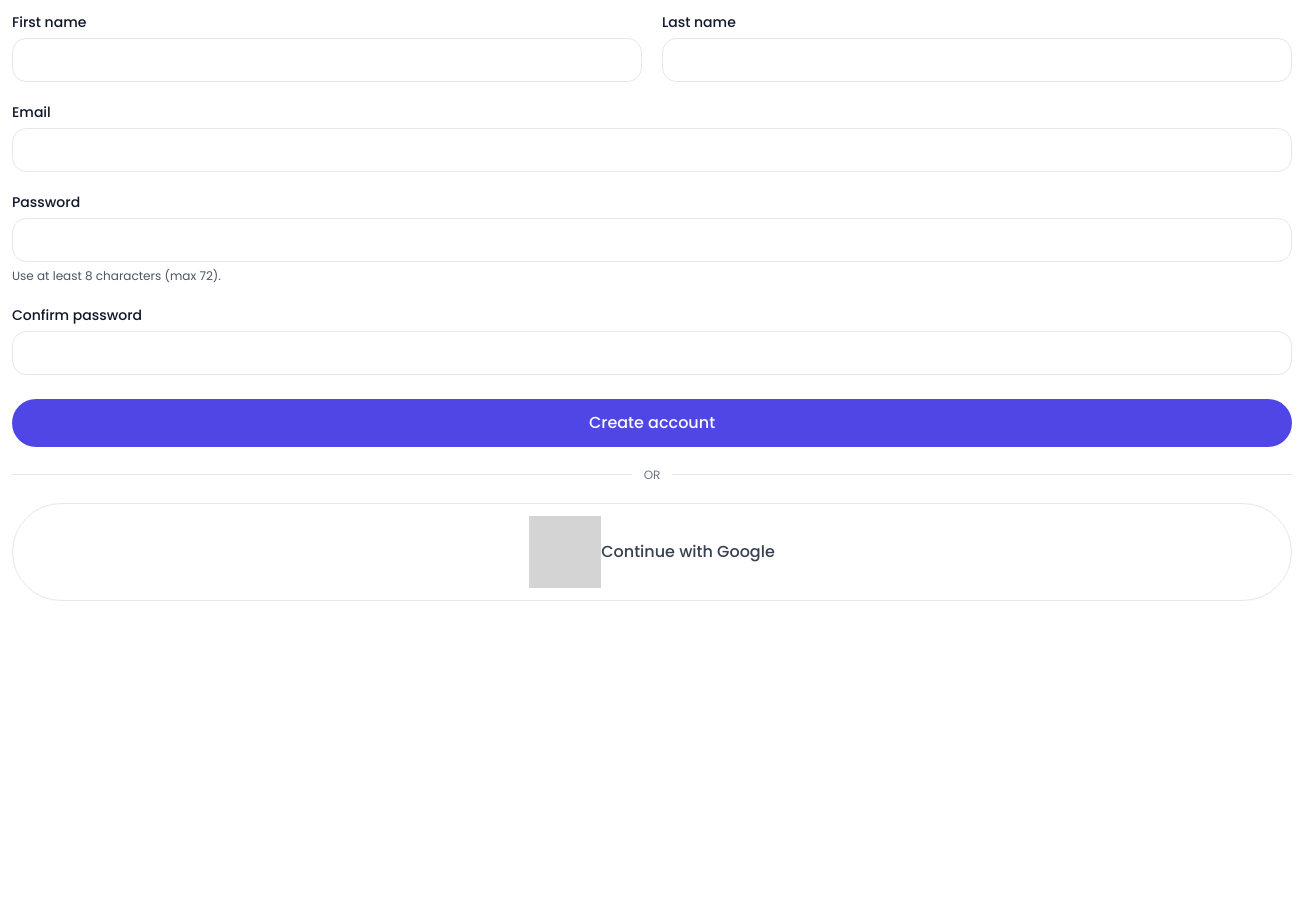
Test: SignUpForm › shows a validation error when first name is empty
The image size is (1304, 912).
Type "Doe" into the field labelled "Last name" at {"x": 977, "y": 60}, box [662,38,1292,82]
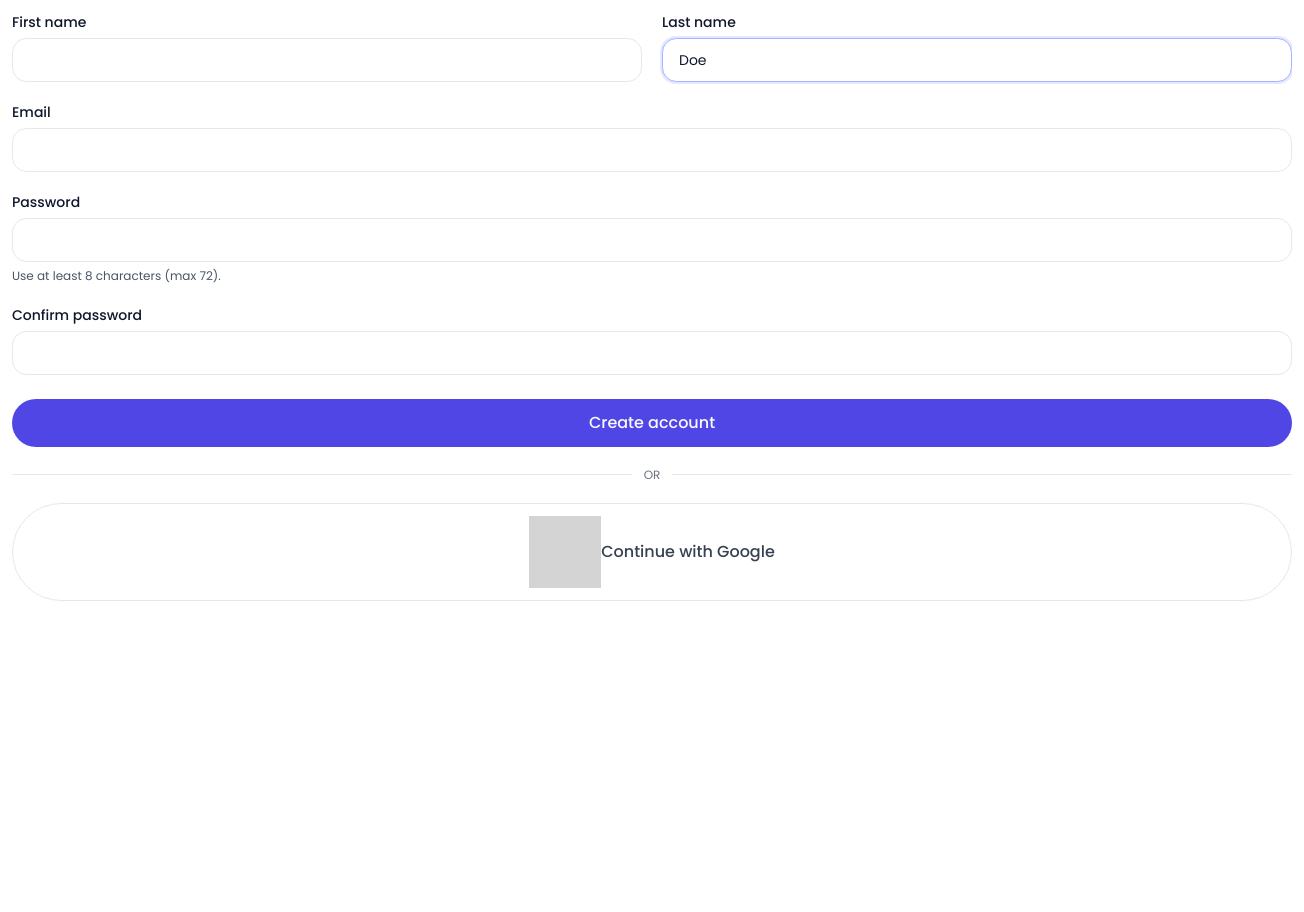
Type "jane@example.com" into the field labelled "Email" at {"x": 652, "y": 150}, box [12,128,1292,172]
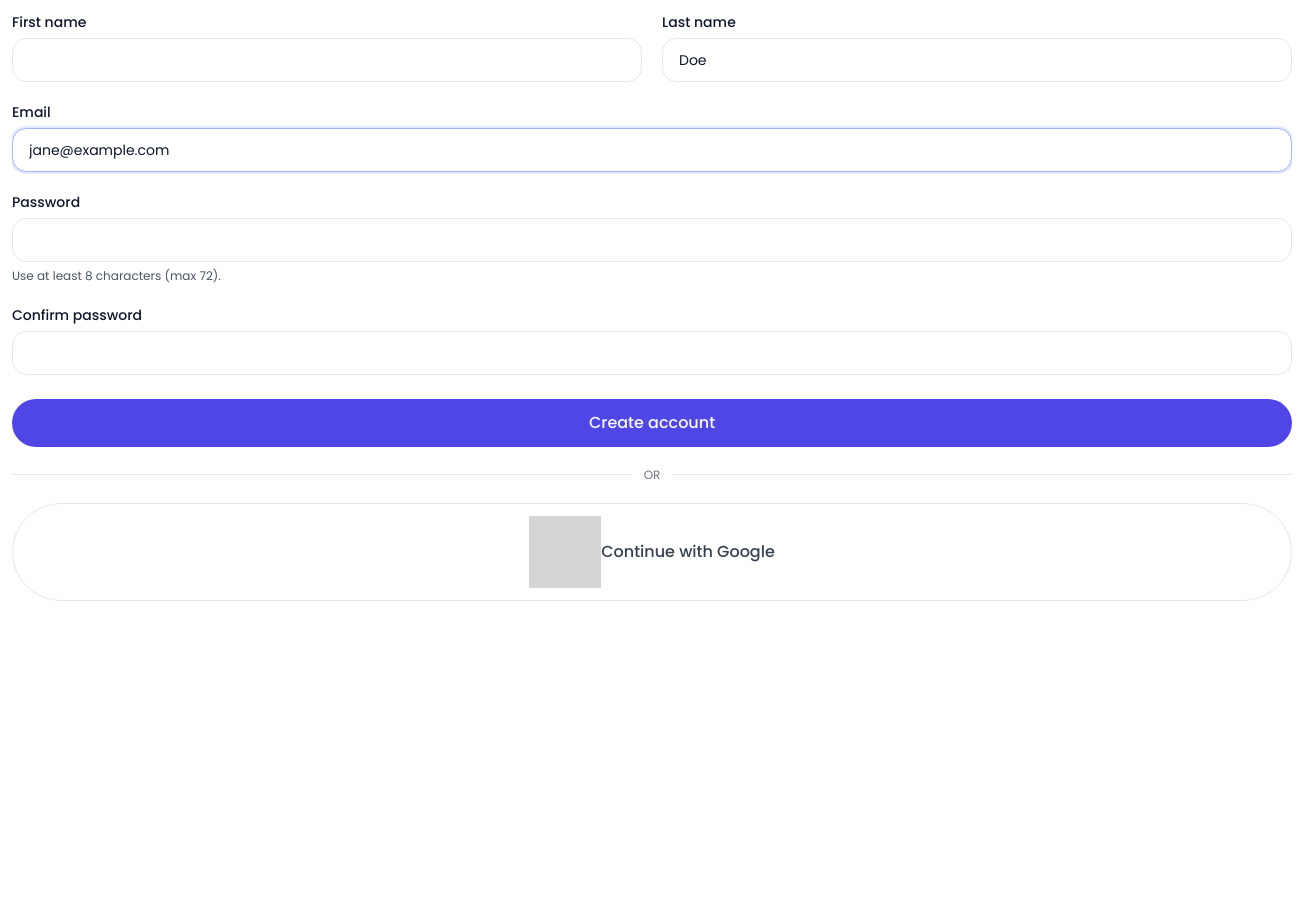
Type "Secret123!" into the password field labelled "Password" at {"x": 652, "y": 240}, box [12,218,1292,262]
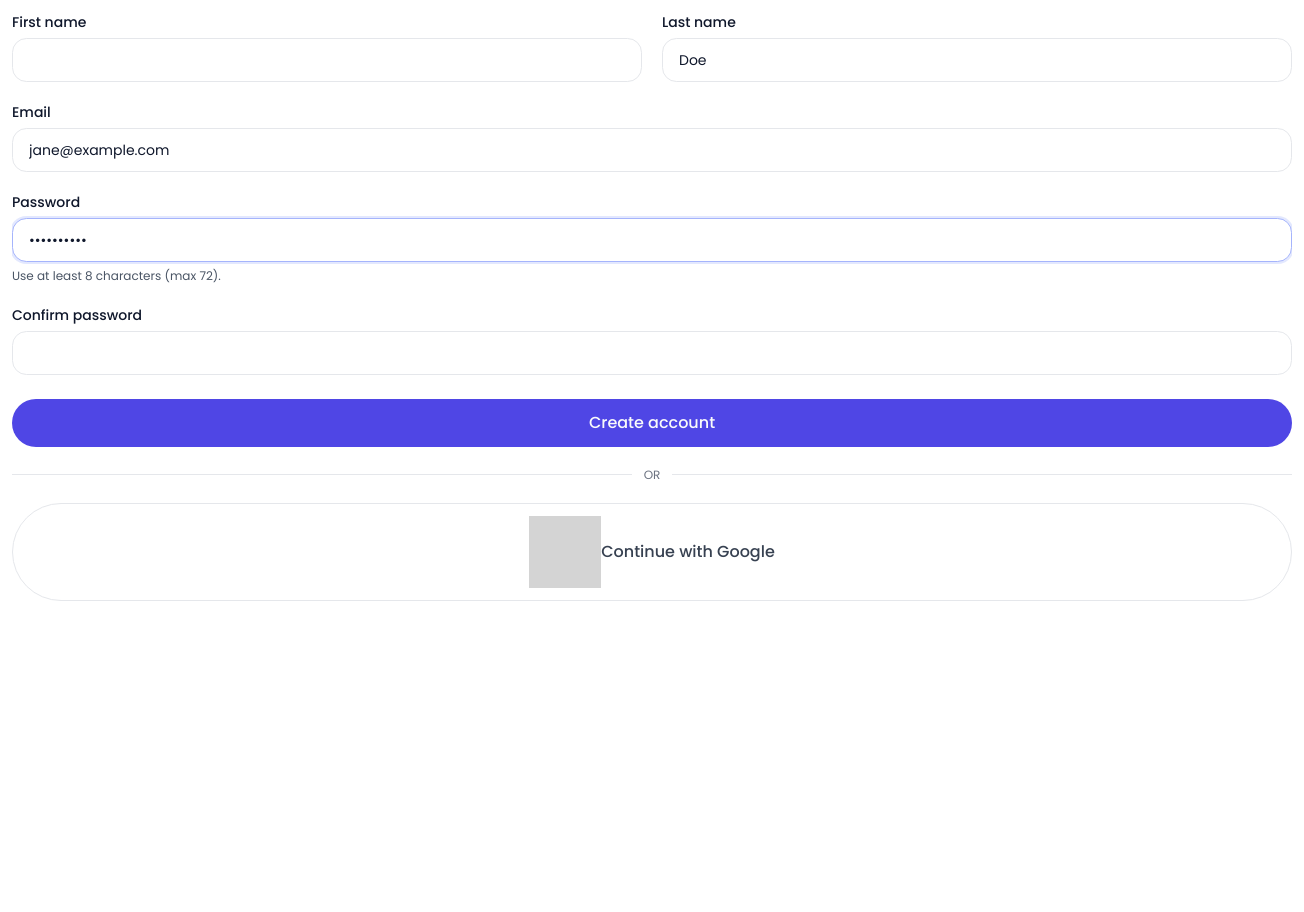
Type "Secret123!" into the password field labelled "Confirm password" at {"x": 652, "y": 352}, box [12,330,1292,374]
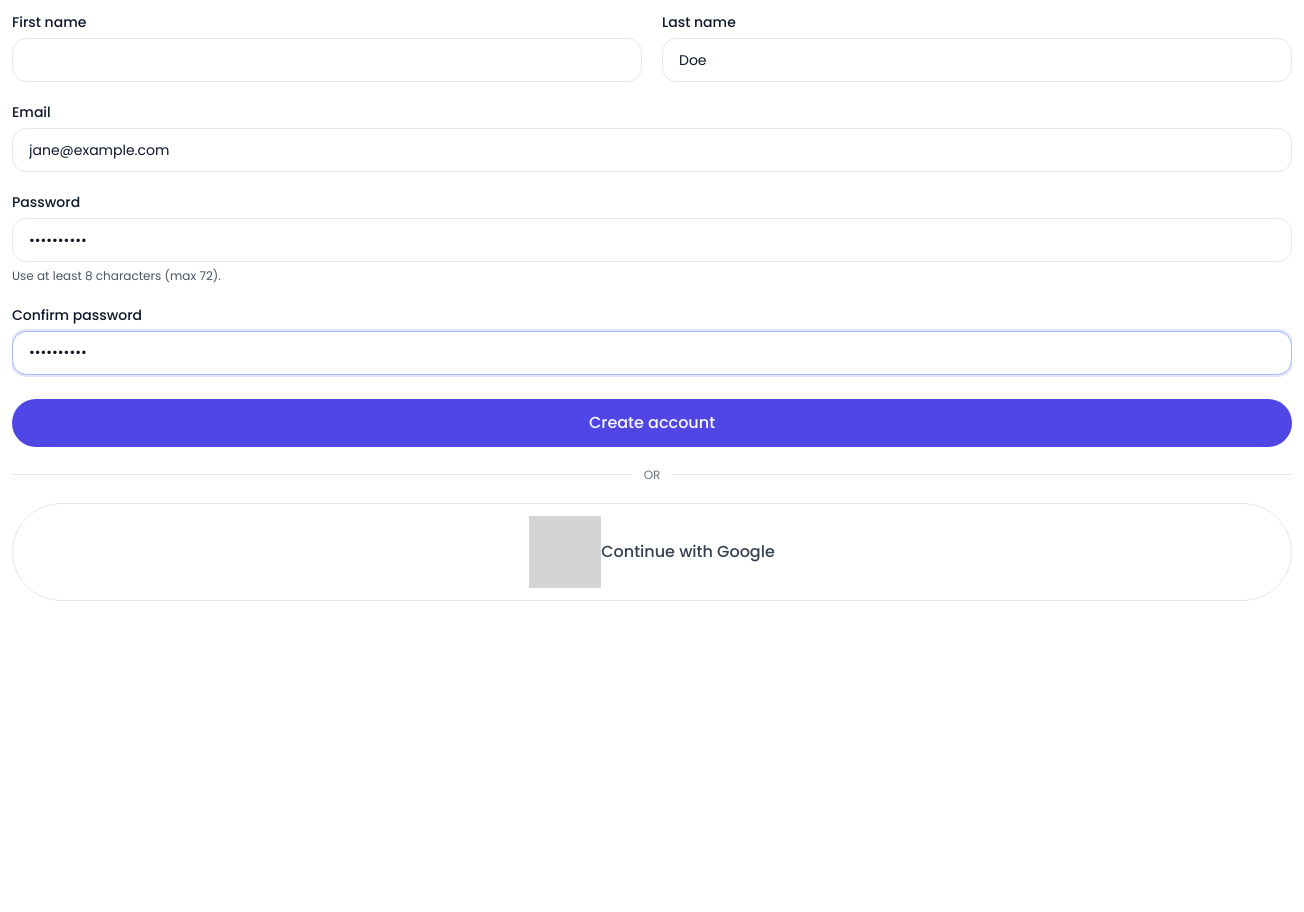
Submit the form named "create account", box [12,12,1292,446]
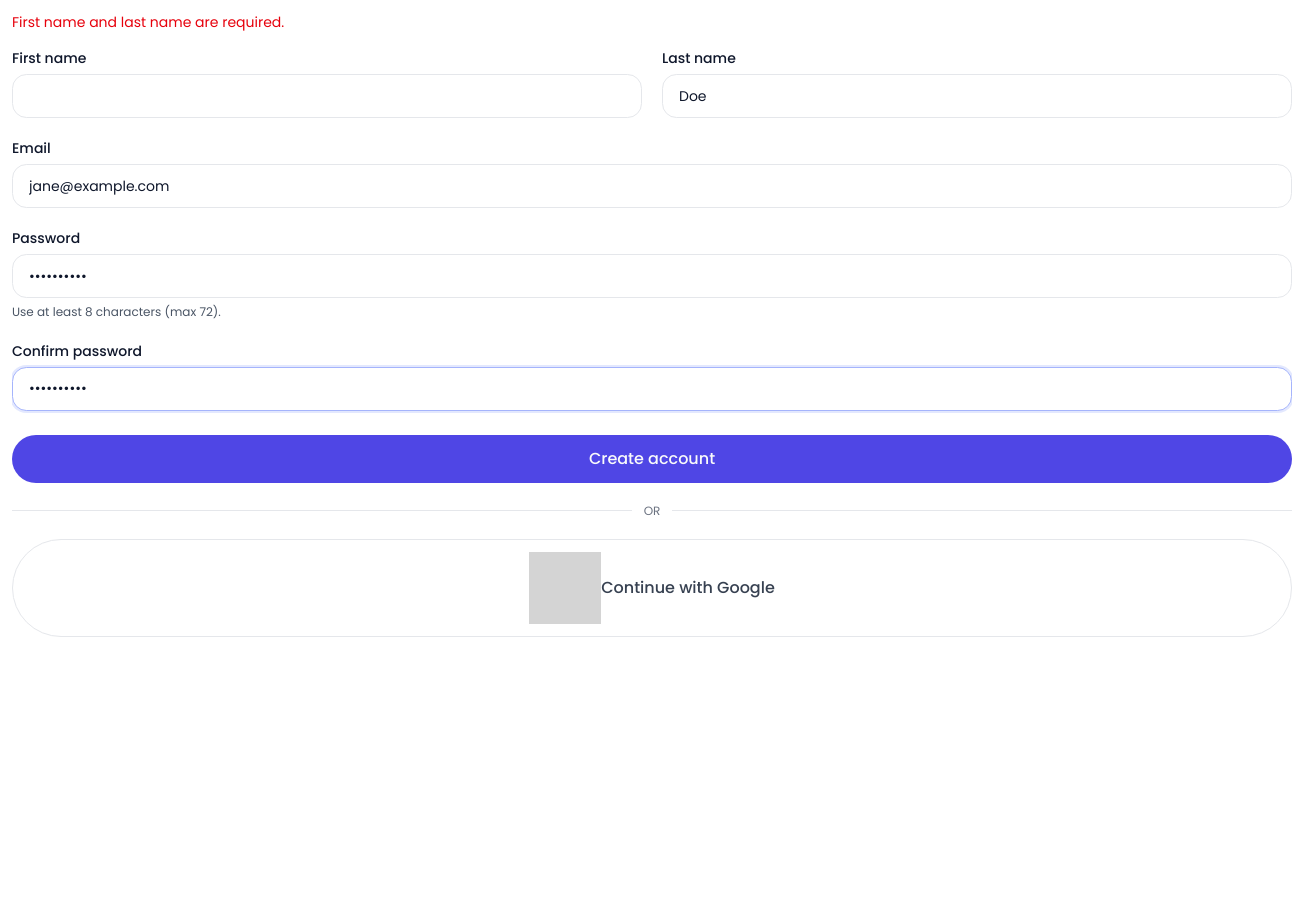
Now the message shows "First name and last name are required", box [12,12,284,32]
